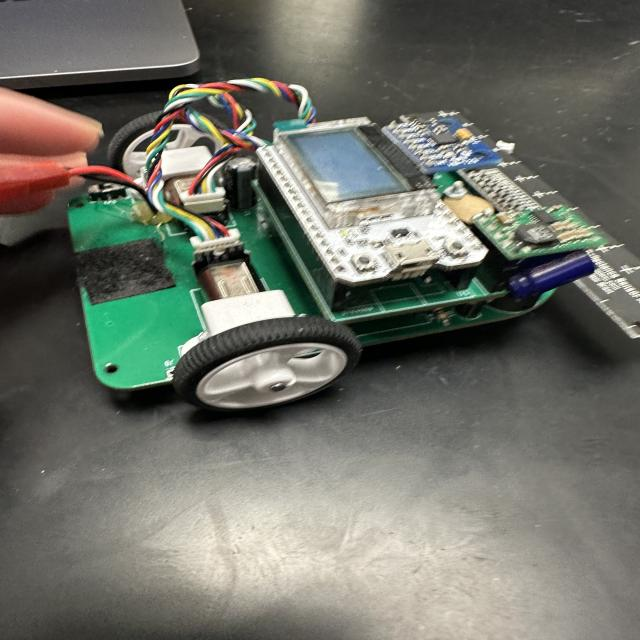robot: (57, 76, 640, 421)
